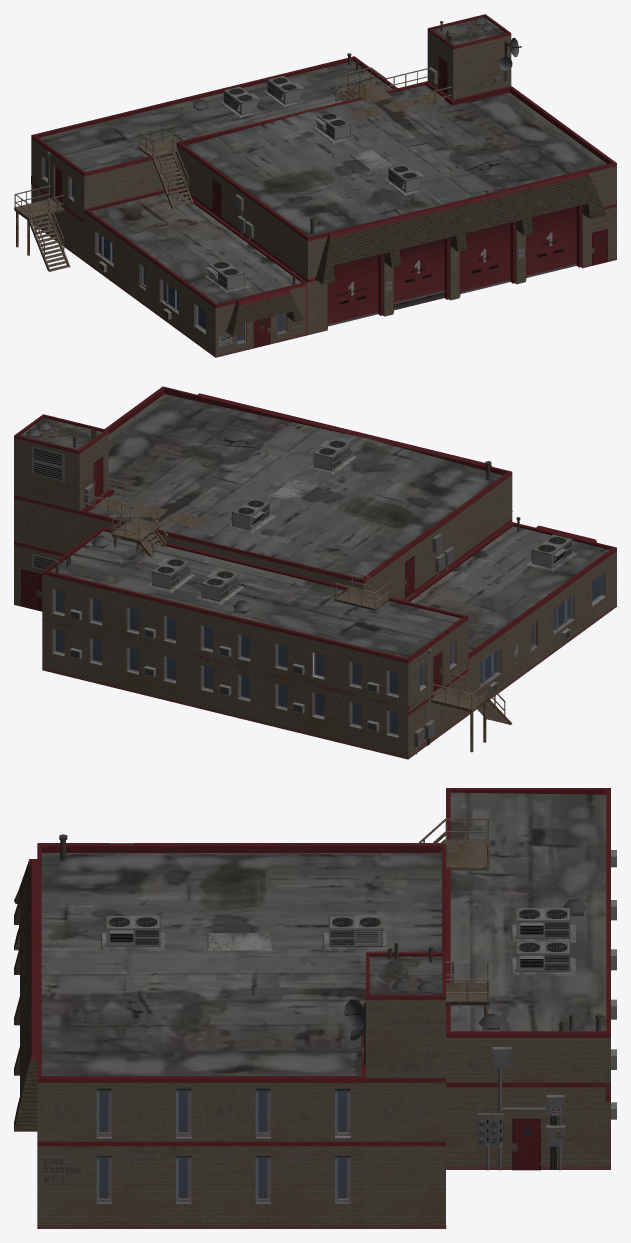
Rendered from fire.glb.
3 renders of one model, top to bottom at view 1: azimuth 30°, elevation 25°; view 2: azimuth 150°, elevation 25°; view 3: azimuth 270°, elevation 25°, orthographic. The views are drawn at different scales.
Parts seen in each view (by area): view 1: LOD0; view 2: LOD0; view 3: LOD0.
Boxes of the visible parts, x1,y1,x2,y2 form: LOD0: [14, 14, 616, 357]; LOD0: [14, 386, 616, 759]; LOD0: [14, 788, 616, 1228].
Bounding box in the file's own units: 31.27 × 10.57 × 23.61.
1 material, 1 textured.
